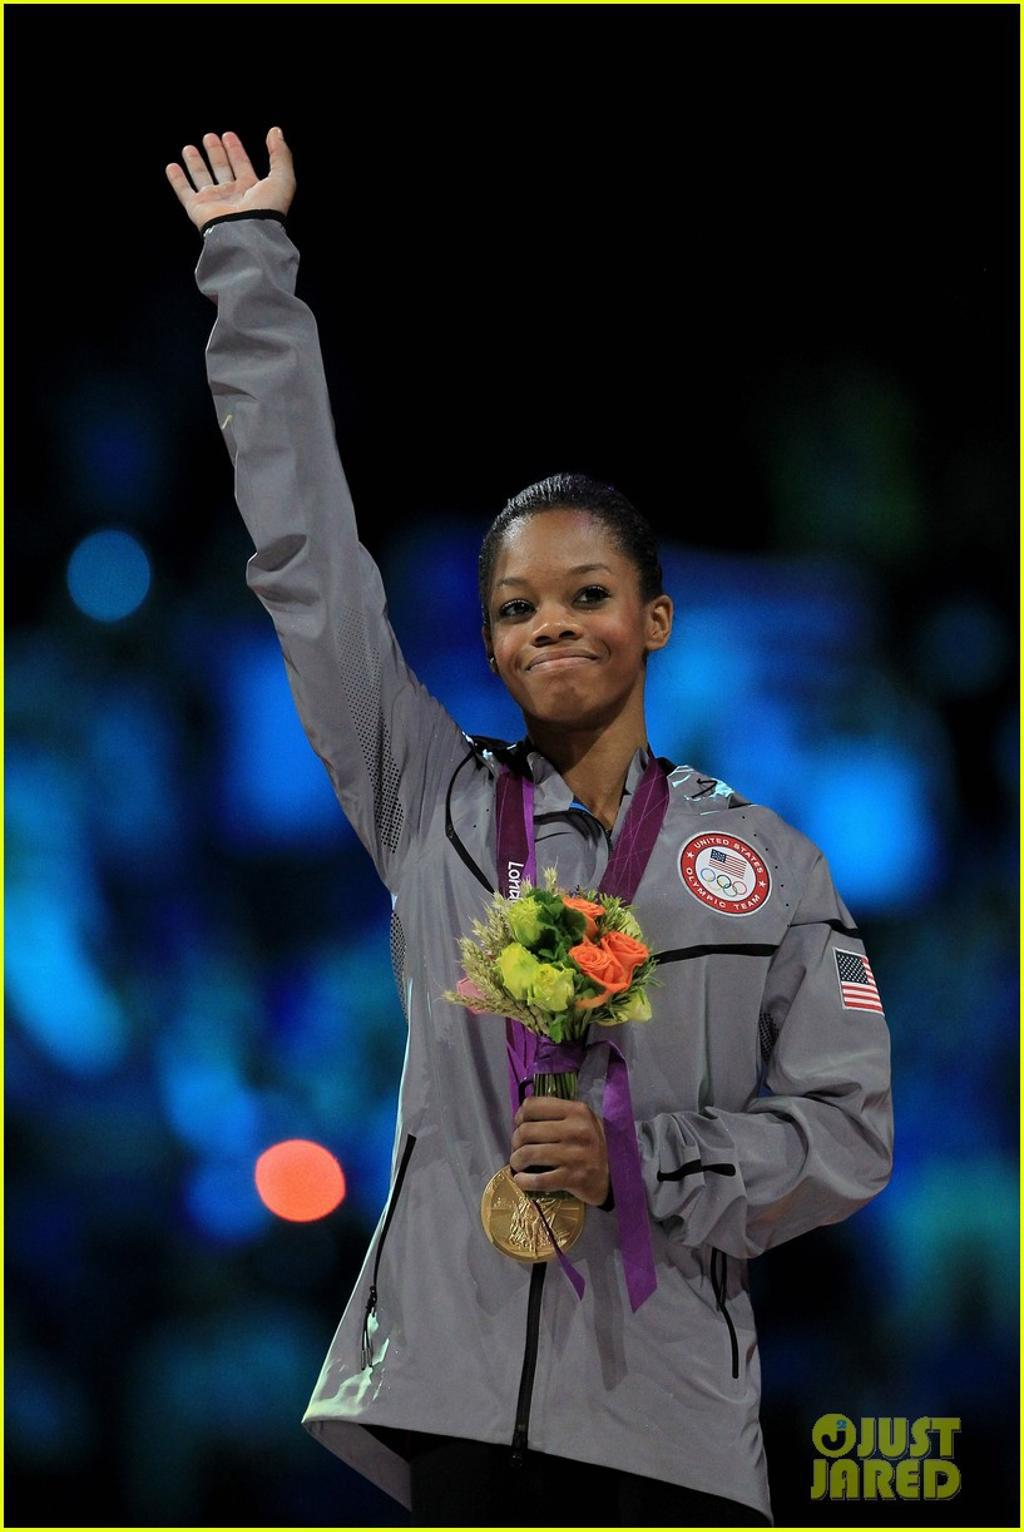face: (489, 510, 645, 723)
